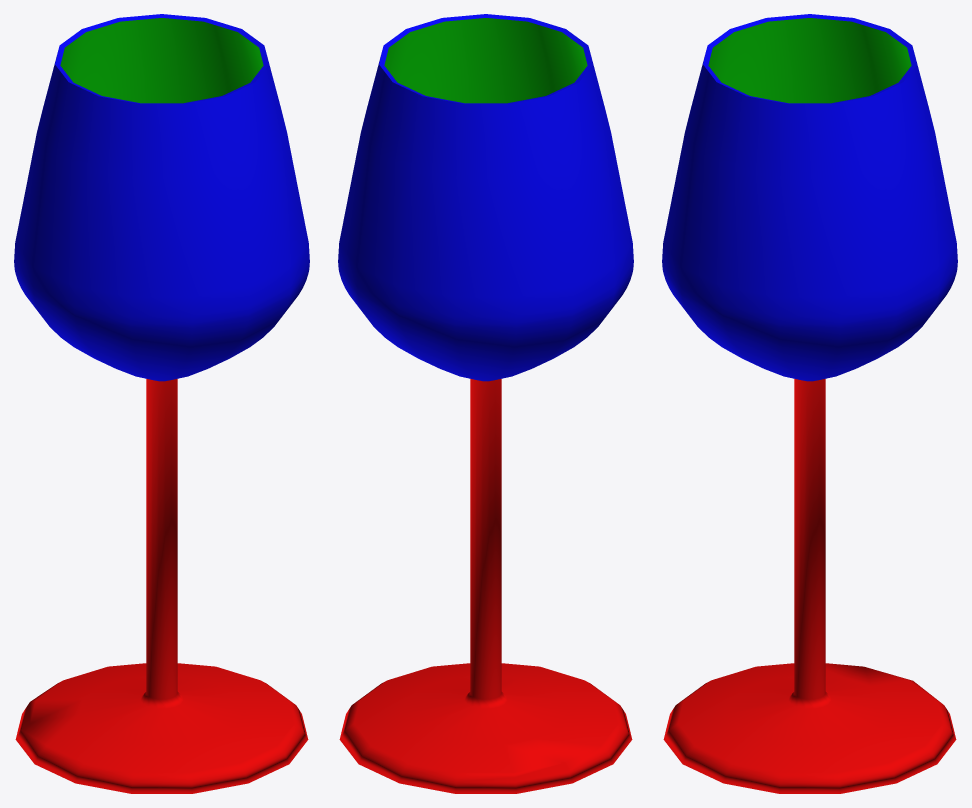
Rendered from glass_inandoutandbottom.fbx.
3 views of the same model, side by side, from view 1: azimuth 30°, elevation 25°; view 2: azimuth 150°, elevation 25°; view 3: azimuth 270°, elevation 25° (orthographic).
Parts seen in each view (by area): view 1: glass_splitted; view 2: glass_splitted; view 3: glass_splitted.
Part boxes in pixels (x1,y1,x2,y2): glass_splitted: (14,14,309,793); glass_splitted: (338,14,633,793); glass_splitted: (662,14,957,793).
Bounding box in the file's own units: 165 × 166 × 416.
